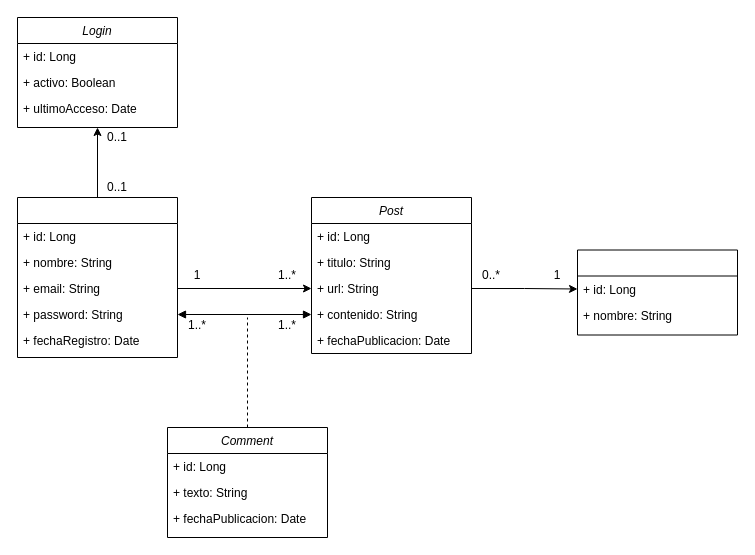
Image size: 755x555. Some labels were removed from this diagram. Here are the shapes that lost their labels. From the top down, the box of each, then its label:
(16, 196, 178, 358): User
(576, 249, 738, 335): Category
